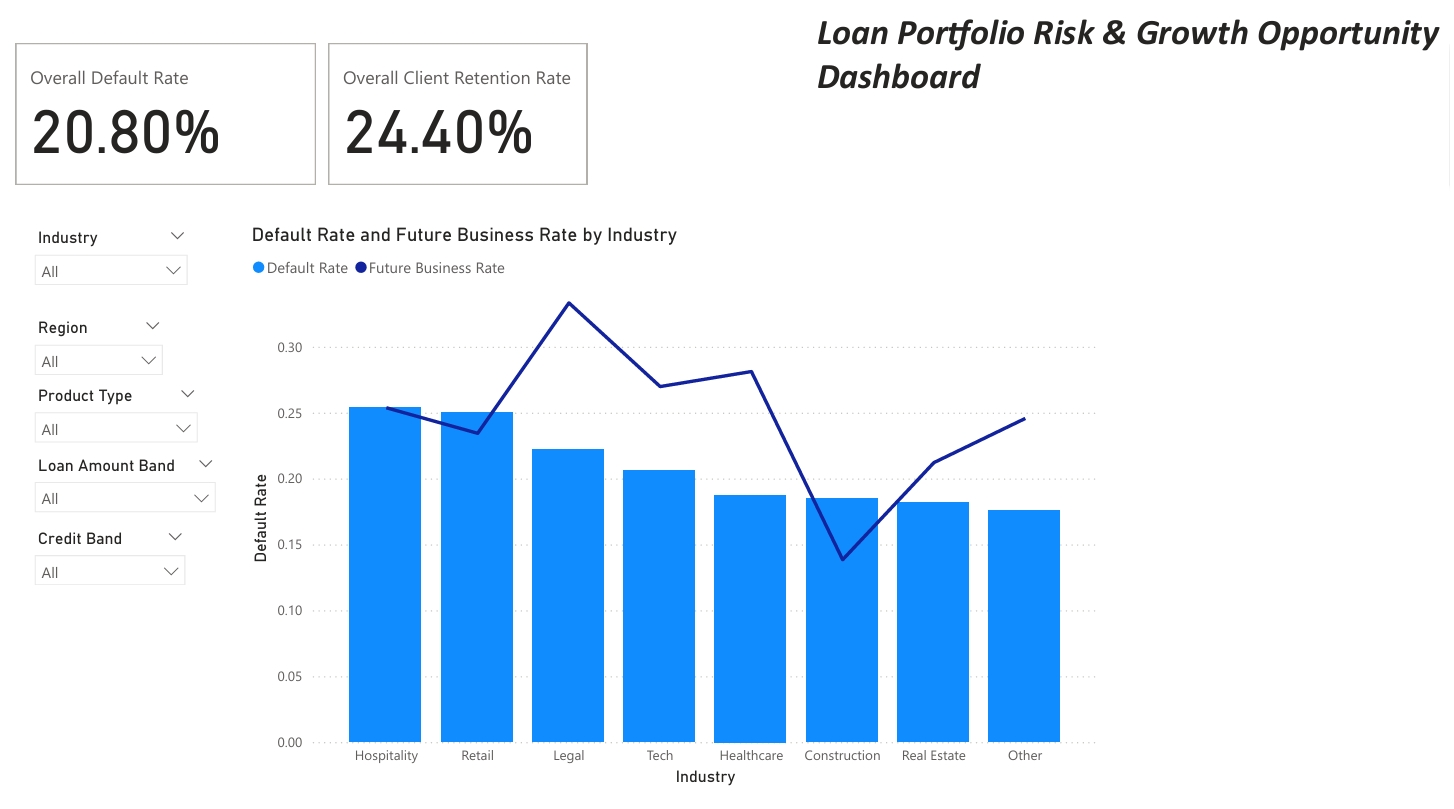

What the dashboard file says about the page in this screenshot:
{"tool":"powerbi","page":{"name":"Page 1","canvas":[1280,720],"ordinal":0},"visuals":[{"type":"lineClusteredColumnComboChart","fields":{"Category":["Fintech_Loan_Simulated_Dataset.industry"],"Y2":["Fintech_Loan_Simulated_Dataset.Default Rate"],"Y":["Fintech_Loan_Simulated_Dataset.Default Rate1"]},"box":[210.3,194.4,763,505],"z":0},{"type":"cardVisual","fields":{"Data":["Fintech_Loan_Simulated_Dataset.Portfolio Default Rate"]},"box":[0,29.3,277.6,137],"z":1},{"type":"cardVisual","fields":{"Data":["Fintech_Loan_Simulated_Dataset.Portfolio Future Business Rate"]},"box":[277.6,29.3,240.9,137],"z":2},{"type":"slicer","fields":{"Values":["Fintech_Loan_Simulated_Dataset.product_type"]},"box":[12.2,333.8,165.1,62.4],"z":5},{"type":"slicer","fields":{"Values":["Fintech_Loan_Simulated_Dataset.region"]},"box":[12.2,273.9,133.3,67.3],"z":6},{"type":"textbox","box":[711.7,0,568.6,220.1],"z":7},{"type":"slicer","fields":{"Values":["Fintech_Loan_Simulated_Dataset.Credit Band"]},"box":[12.2,461,154.1,53.8],"z":8},{"type":"slicer","fields":{"Values":["Fintech_Loan_Simulated_Dataset.Loan Amount Band"]},"box":[12.2,396.2,181,64.8],"z":9},{"type":"slicer","fields":{"Values":["Fintech_Loan_Simulated_Dataset.industry"]},"box":[12.2,194.4,155.3,70.9],"z":10}]}

Visuals, with their boxes in screenshot pixels (x1, y1, x2, y2), scaled from the page's 1280x720 canvas onto the 1454x809 screenshot:
lineClusteredColumnComboChart - Fintech_Loan_Simulated_Dataset.industry x Fintech_Loan_Simulated_Dataset.Default Rate: bbox(239, 218, 1106, 786)
cardVisual - Fintech_Loan_Simulated_Dataset.Portfolio Default Rate: bbox(0, 33, 315, 187)
cardVisual - Fintech_Loan_Simulated_Dataset.Portfolio Future Business Rate: bbox(315, 33, 589, 187)
slicer - Fintech_Loan_Simulated_Dataset.product_type: bbox(14, 375, 201, 445)
slicer - Fintech_Loan_Simulated_Dataset.region: bbox(14, 308, 165, 383)
textbox: bbox(808, 0, 1453, 247)
slicer - Fintech_Loan_Simulated_Dataset.Credit Band: bbox(14, 518, 189, 578)
slicer - Fintech_Loan_Simulated_Dataset.Loan Amount Band: bbox(14, 445, 219, 518)
slicer - Fintech_Loan_Simulated_Dataset.industry: bbox(14, 218, 190, 298)
